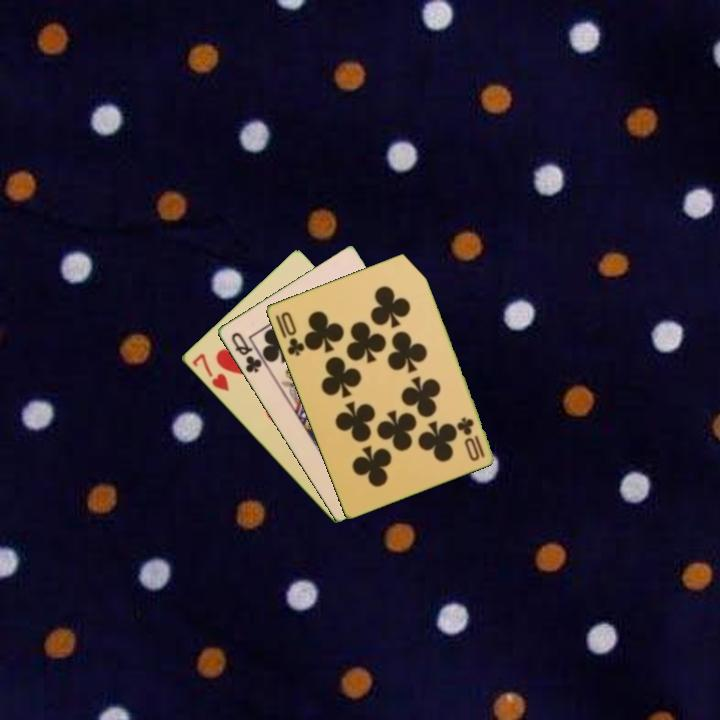10c: (454, 413, 487, 461), (277, 308, 307, 359)
7h: (188, 350, 232, 394)
Qc: (227, 328, 269, 376)
